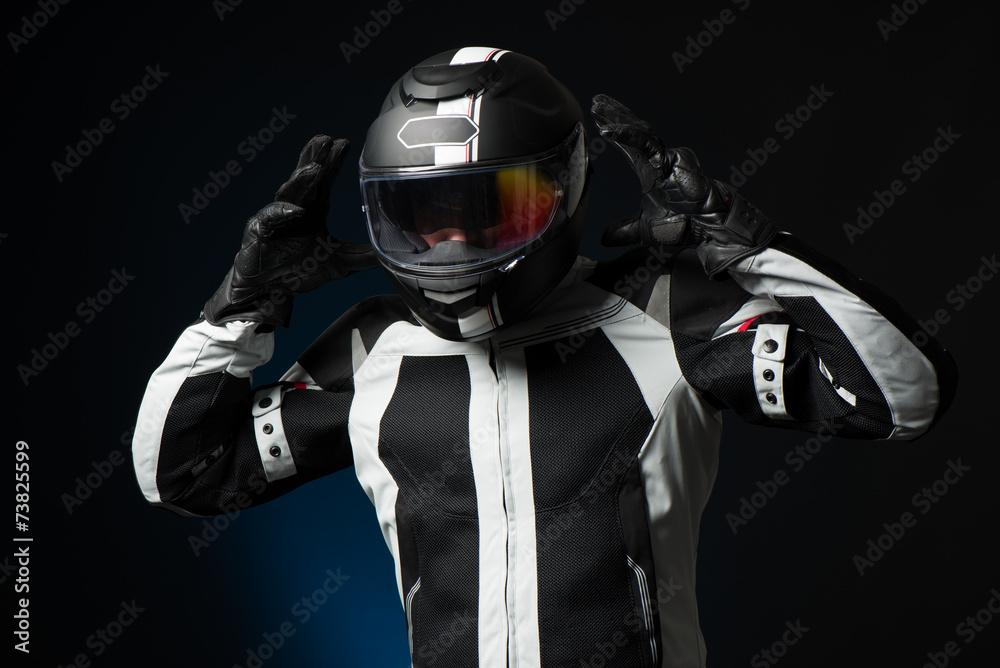helmet: (358, 45, 593, 344)
